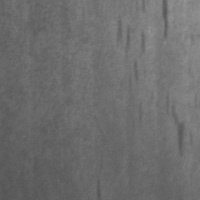inclusion: (114, 1, 150, 87), (159, 88, 198, 161), (125, 57, 144, 103), (156, 1, 176, 43), (93, 175, 106, 199)
